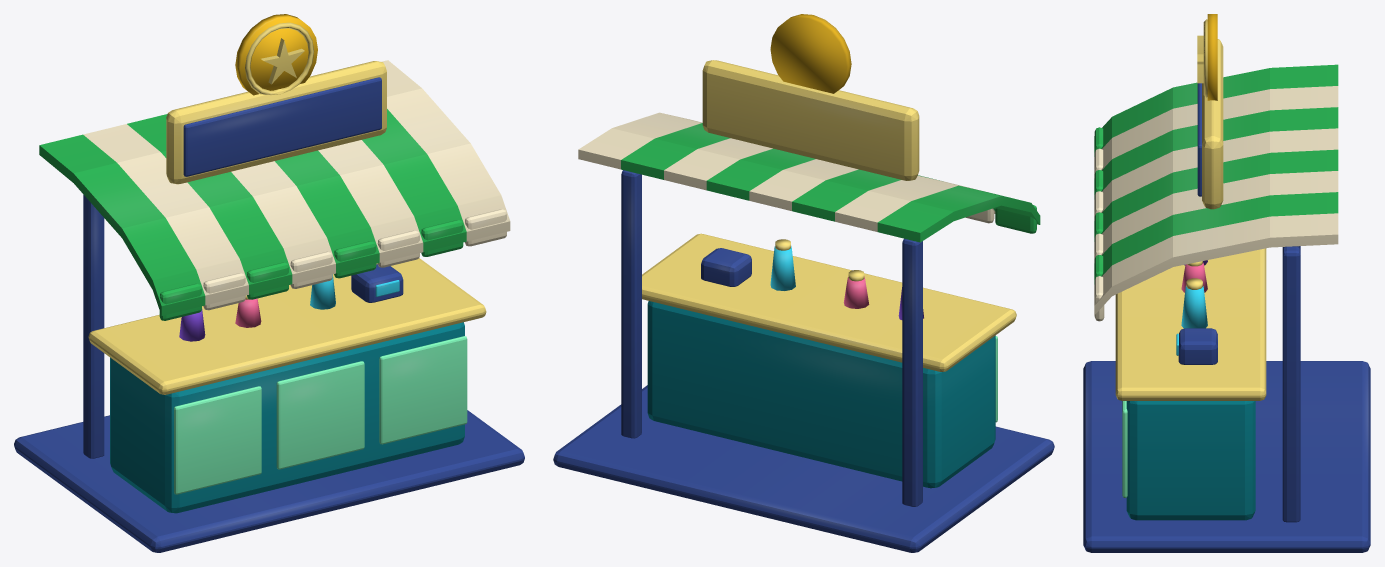
Rendered from ShopKiosk.fbx.
3 renders of one model, left to right at view 1: azimuth 30°, elevation 25°; view 2: azimuth 150°, elevation 25°; view 3: azimuth 270°, elevation 25°, orthographic.
Parts seen in each view (by area): view 1: ShopKiosk; view 2: ShopKiosk; view 3: ShopKiosk.
Boxes of the visible parts, x1,y1,x2,y2 form: ShopKiosk: (14, 14, 524, 552); ShopKiosk: (553, 14, 1054, 552); ShopKiosk: (1083, 14, 1370, 552).
Bounding box in the file's own units: 12 × 13.75 × 8.
Materials: 1 (1 with a texture image).
